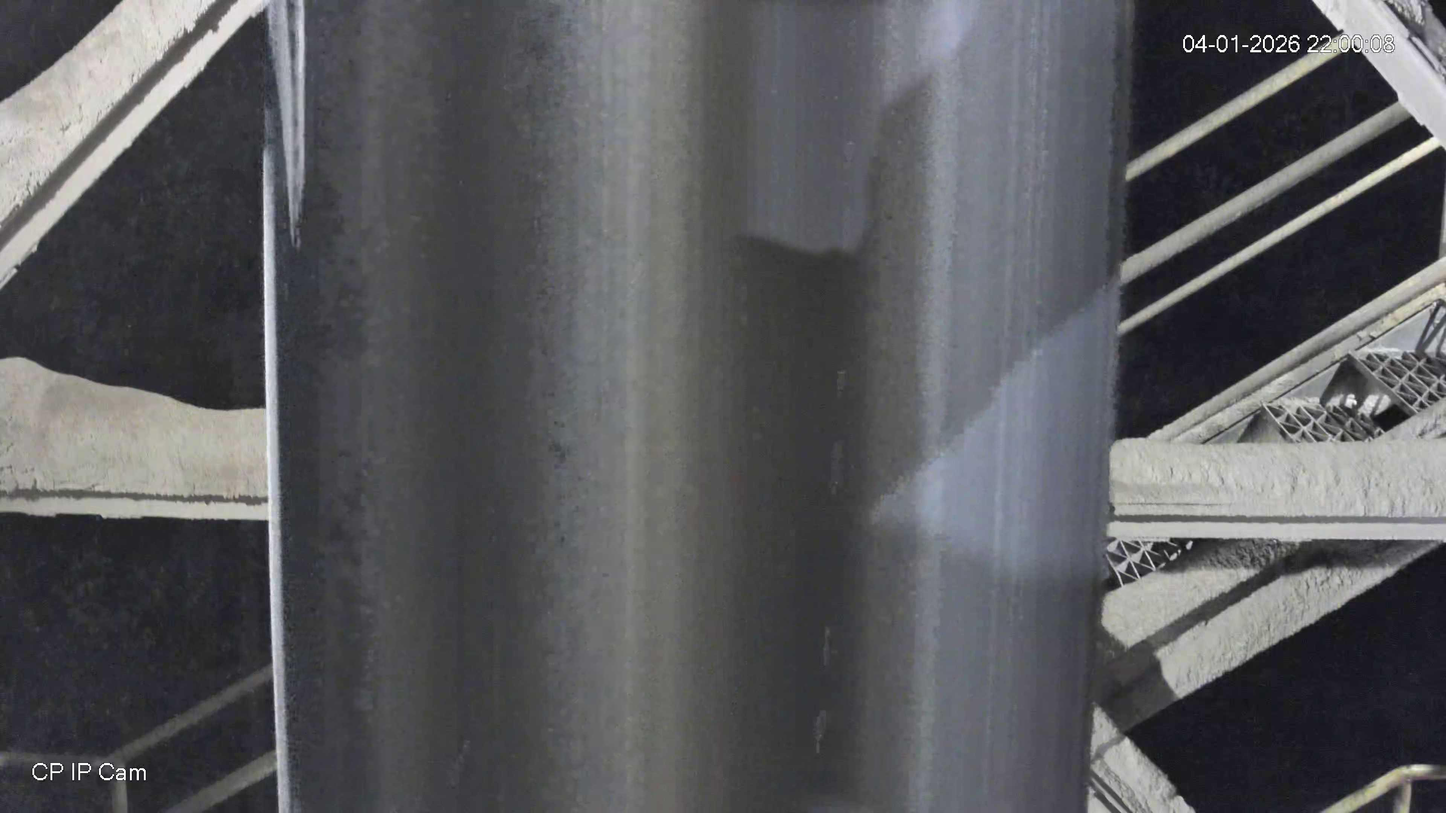belt_roi: (262, 0, 1138, 813)
